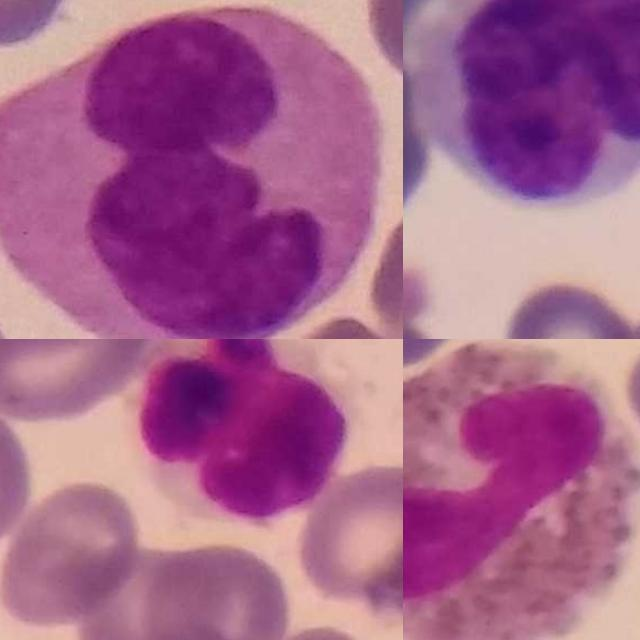Eosinophil: (403, 339, 640, 640)
Lymphocyte: (405, 0, 640, 208), (127, 339, 357, 526)
Monocyte: (0, 3, 376, 339)
